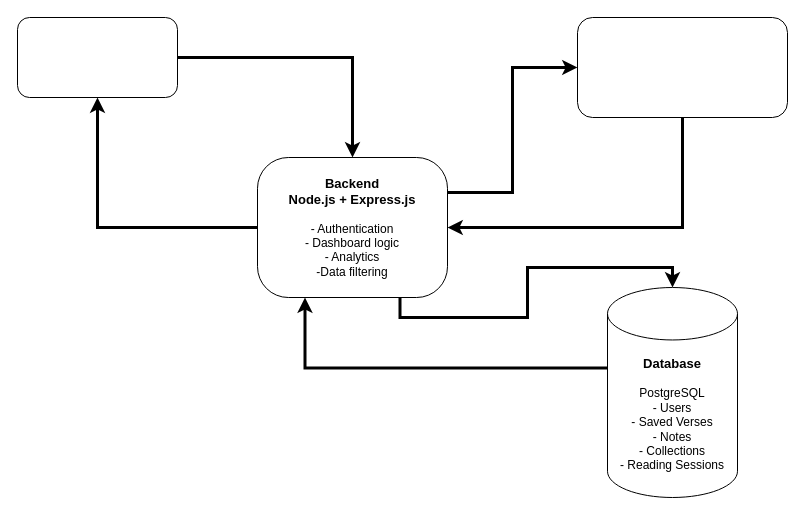
This 805x515 diagram has some shape labels left out. The shapes that lost their labels are listed below. From the top down, each one's centre as x and y in pixels, then its label:
(x=97, y=57): Frontend React + Typescript
(x=682, y=67): External Bible API rest.api.bible -Fetching books & daily verses
